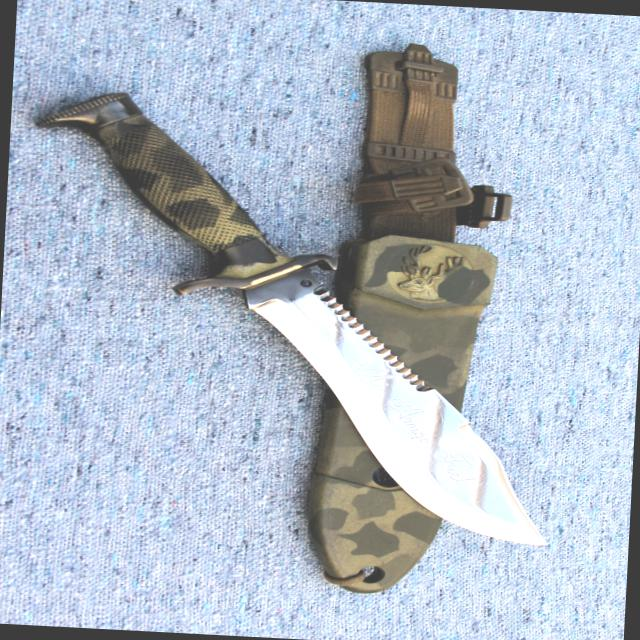knife: (227, 275, 573, 552)
